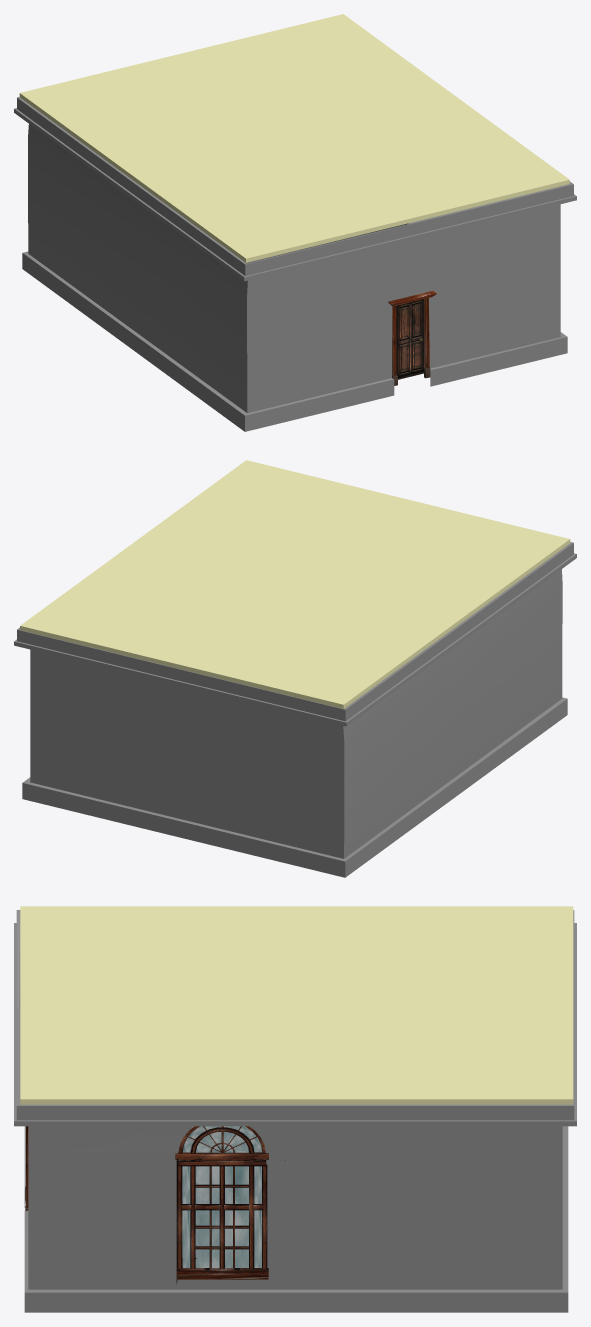
The picture shows the model from 3 angles, top to bottom: view 1: azimuth 30°, elevation 25°; view 2: azimuth 150°, elevation 25°; view 3: azimuth 270°, elevation 25°; orthographic projection. The views are drawn at different scales.
Visible parts, largest first — view 1: 木房1, 船板大厅, Inst3D001, 门框; view 2: 木房1, 船板大厅; view 3: 船板大厅, 木房1, 对象077, 门窗, 对象078.
Part boxes in pixels (x1,y1,x2,y2): 木房1: [14, 97, 576, 431]; 船板大厅: [19, 14, 569, 262]; Inst3D001: [396, 299, 424, 379]; 门框: [388, 291, 436, 376]; 木房1: [14, 542, 576, 877]; 船板大厅: [20, 460, 570, 708]; 船板大厅: [20, 906, 573, 1104]; 木房1: [14, 910, 576, 1312]; 对象077: [182, 1126, 261, 1267]; 门窗: [175, 1126, 268, 1268]; 对象078: [176, 1258, 268, 1283].
Size of what is drawn, in the model's own units: 8.81 by 4.42 by 10.58.
